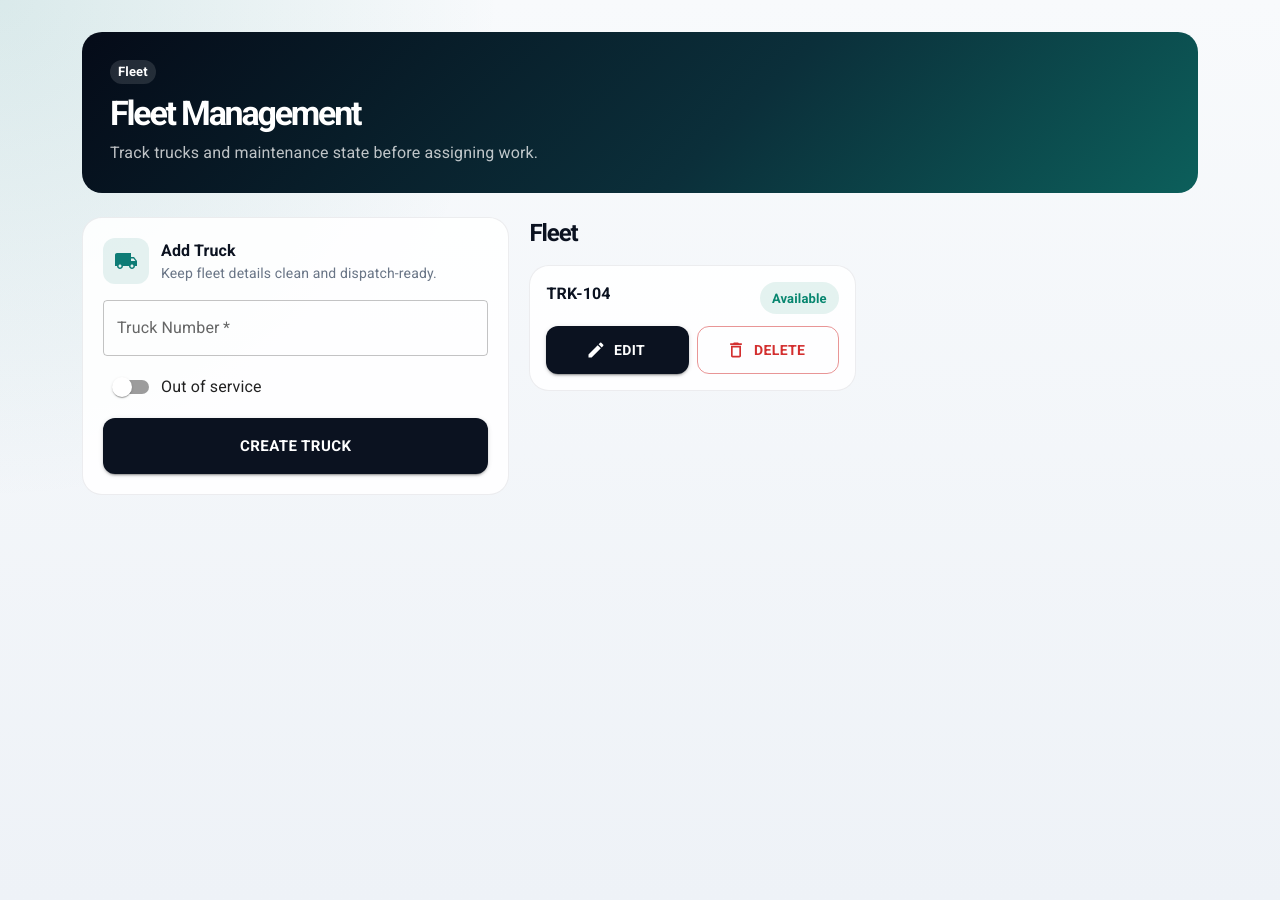
Test: admin Trucks — archive (not permanent delete) wording › PASS: confirming shows the backend's own success message (e.g. 'Truck archived'), not a hardcoded 'deleted' message
Expected: the text "TRK-104" is shown, top-left (546, 282), bottom-right (611, 306)
Click the button "Delete" at (768, 350), box top-left (697, 326), bottom-right (839, 374)
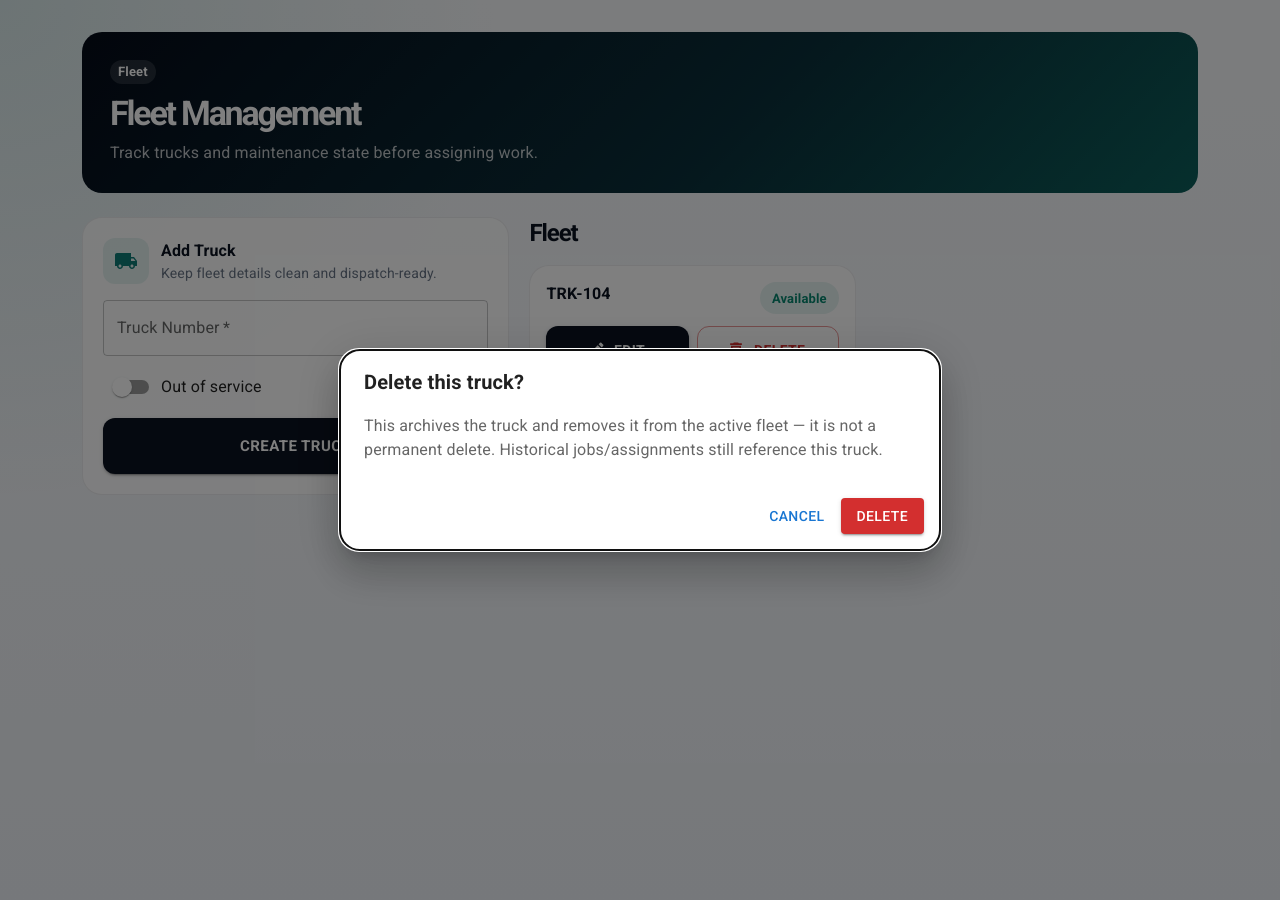
Click the button "Delete" at (882, 516), box top-left (840, 498), bottom-right (924, 534)
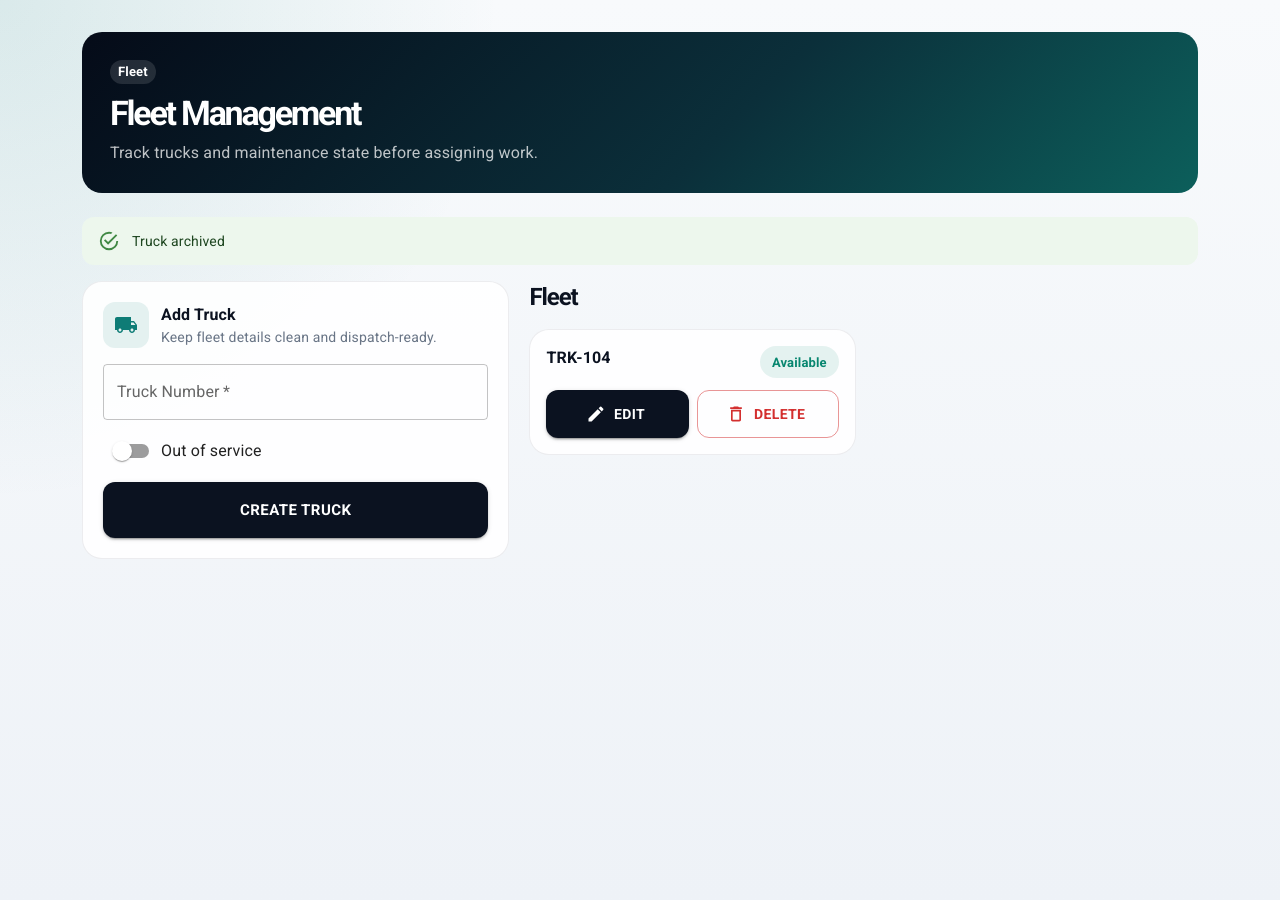
Expected: the text "Truck archived" is shown, top-left (132, 233), bottom-right (225, 249)
